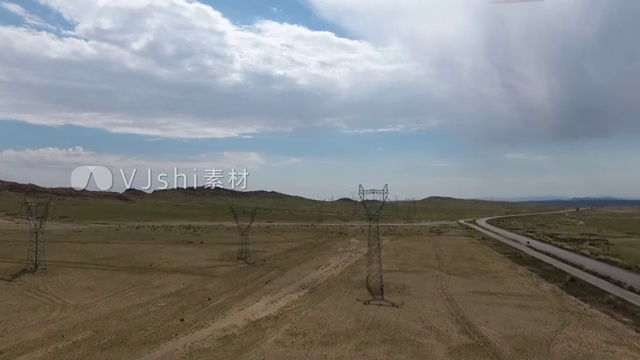tower_body: (353, 179, 399, 295), (16, 191, 60, 278), (227, 203, 267, 264)
tower_foot: (22, 248, 51, 275), (365, 264, 387, 292), (235, 245, 252, 261)
tower_head: (355, 182, 396, 220), (18, 196, 57, 232), (230, 206, 263, 230)
